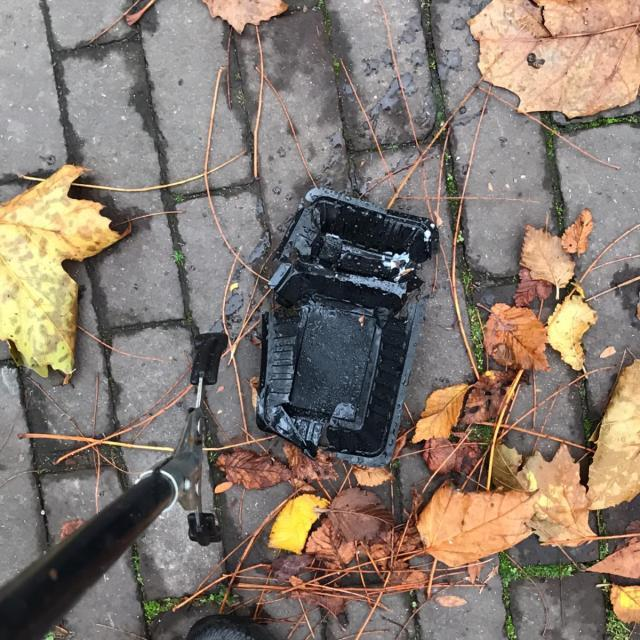Plastic: (242, 182, 440, 472)
